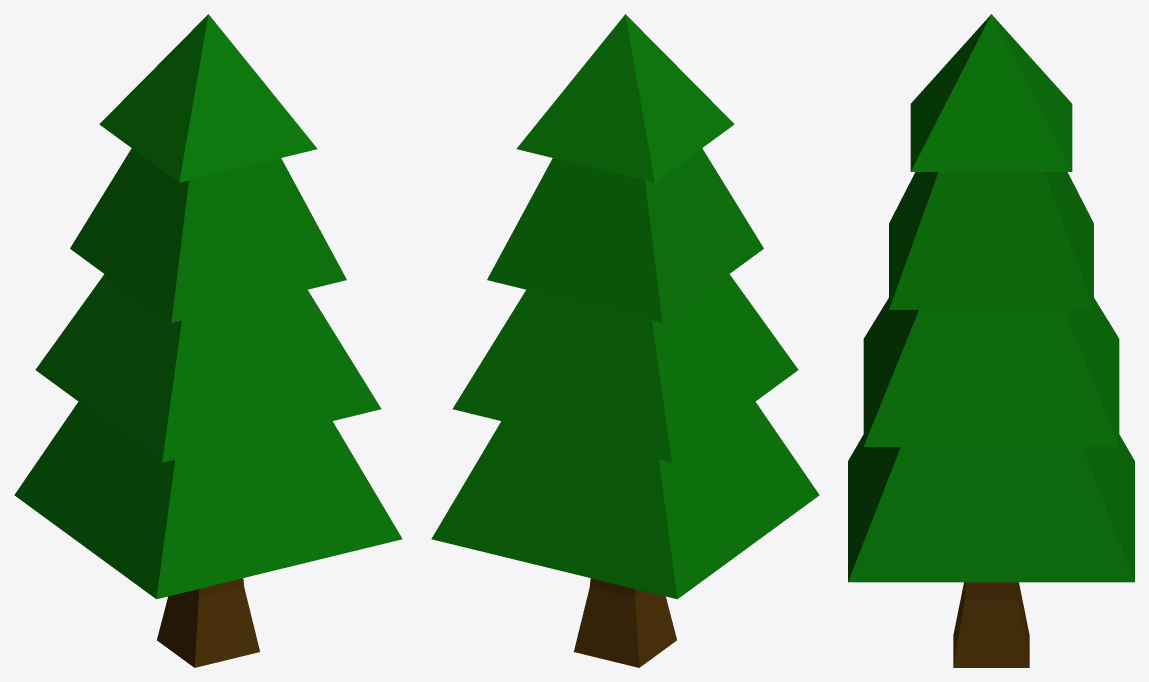
The model's file is evergreen.fbx.
The picture shows the model from 3 angles, left to right: view 1: azimuth 30°, elevation 25°; view 2: azimuth 150°, elevation 25°; view 3: azimuth 270°, elevation 25°; orthographic projection.
Parts seen in each view (by area): view 1: tree; view 2: tree; view 3: tree.
Boxes of the visible parts, x1,y1,x2,y2 form: tree: (14,14,402,667); tree: (431,14,819,667); tree: (848,14,1134,667).
Bounding box in the file's own units: 326 × 800 × 326.
